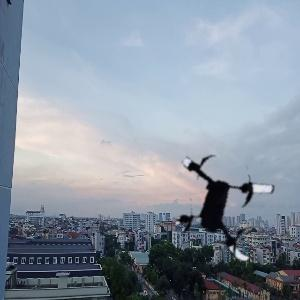drone: (166, 145, 290, 269)
